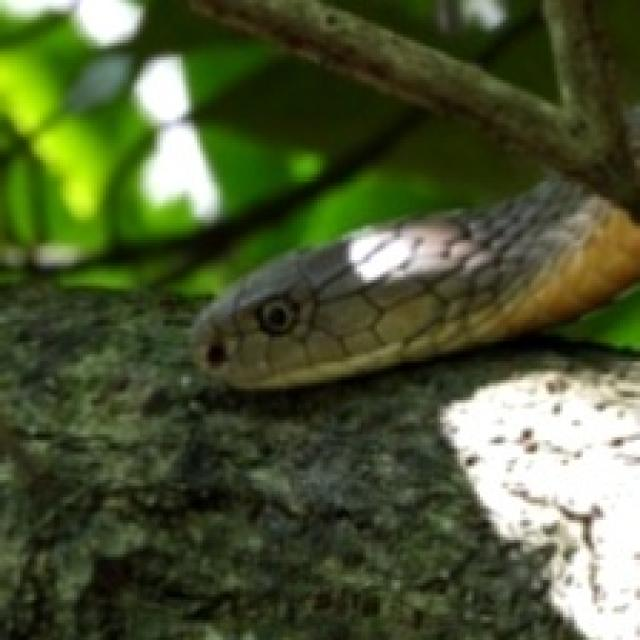king cobra: (191, 0, 637, 386), (191, 177, 637, 386)
